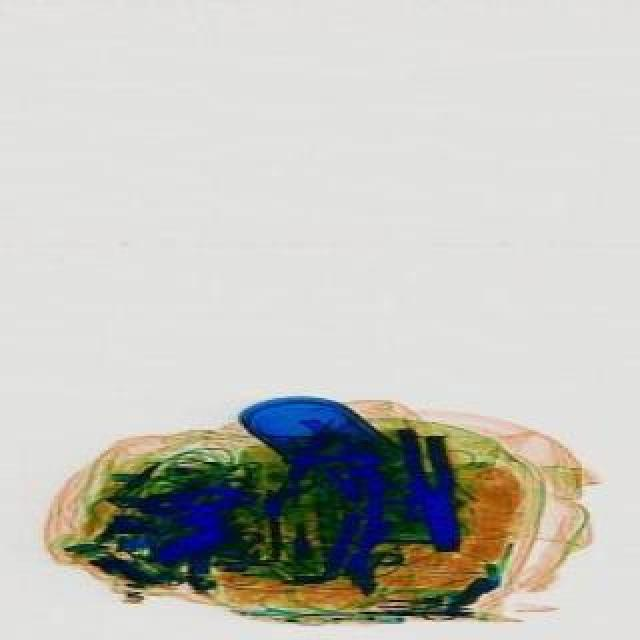wrench: (400, 420, 474, 556)
